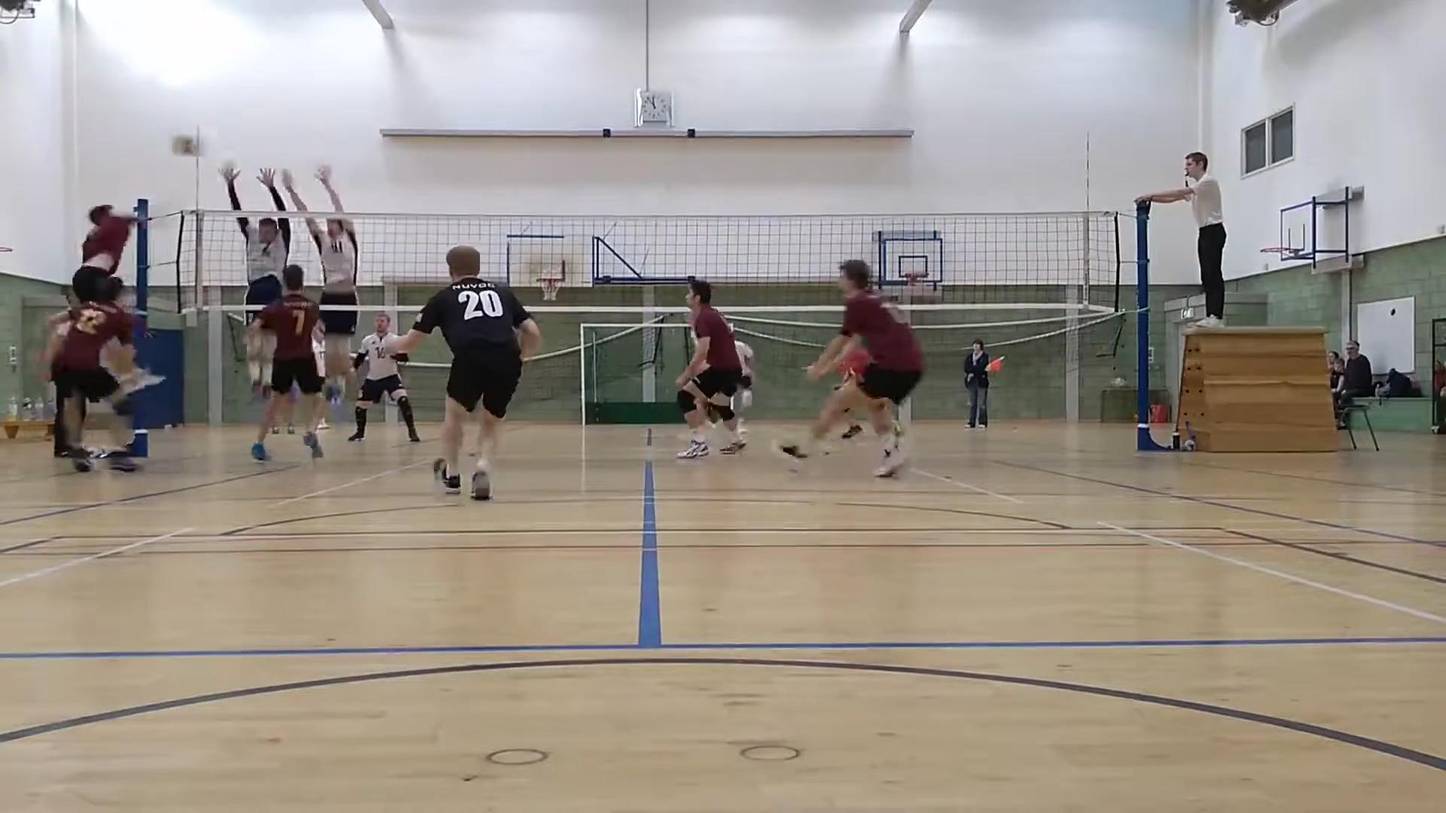Attack: (72, 181, 159, 320)
Block: (279, 156, 367, 405), (218, 151, 291, 395)
Player: (387, 245, 541, 499), (780, 260, 923, 476), (52, 279, 136, 471), (250, 265, 322, 461), (676, 279, 745, 458), (348, 313, 419, 442), (732, 331, 755, 443), (834, 346, 871, 390), (836, 347, 871, 389)
ball: (169, 135, 200, 157)
